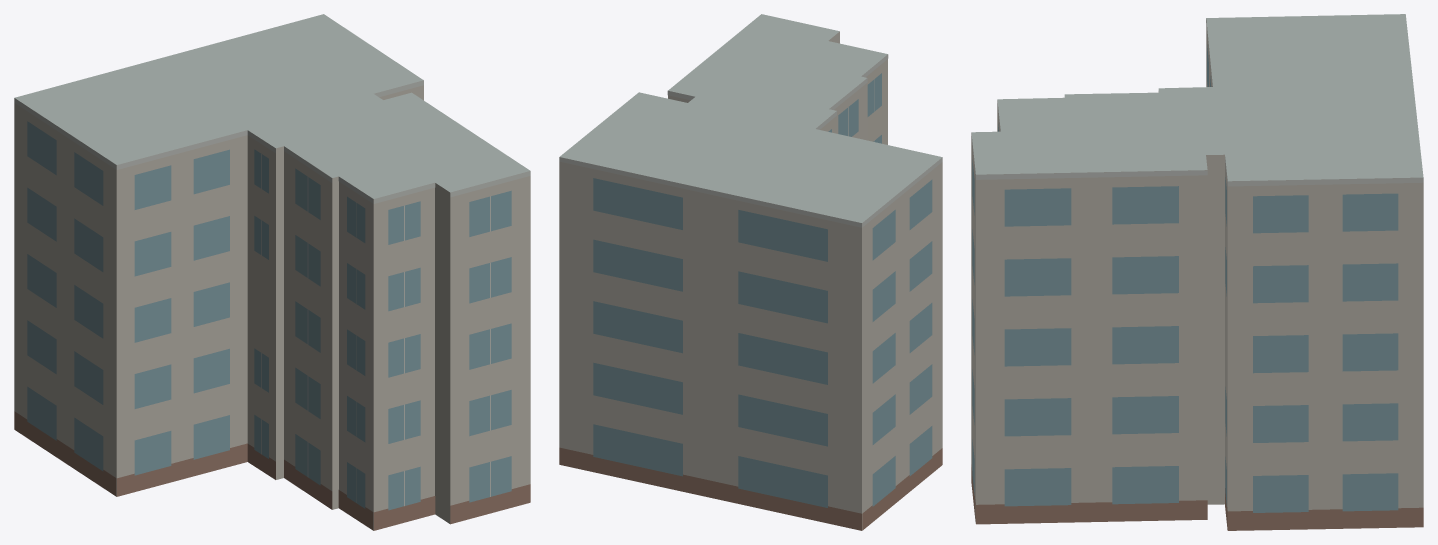
File: survey-upis-33040555.glb
3 renders of one model, left to right at view 1: azimuth 30°, elevation 25°; view 2: azimuth 150°, elevation 25°; view 3: azimuth 270°, elevation 25°, orthographic. The views are drawn at different scales.
Visible parts, largest first — view 1: survey-upis-33040555.tmp; view 2: survey-upis-33040555.tmp; view 3: survey-upis-33040555.tmp.
Boxes of the visible parts, x1,y1,x2,y2 form: survey-upis-33040555.tmp: [14, 14, 530, 530]; survey-upis-33040555.tmp: [559, 14, 942, 530]; survey-upis-33040555.tmp: [971, 14, 1423, 530].
Size of the model in its own units: 16.73 by 16.3 by 19.11.
